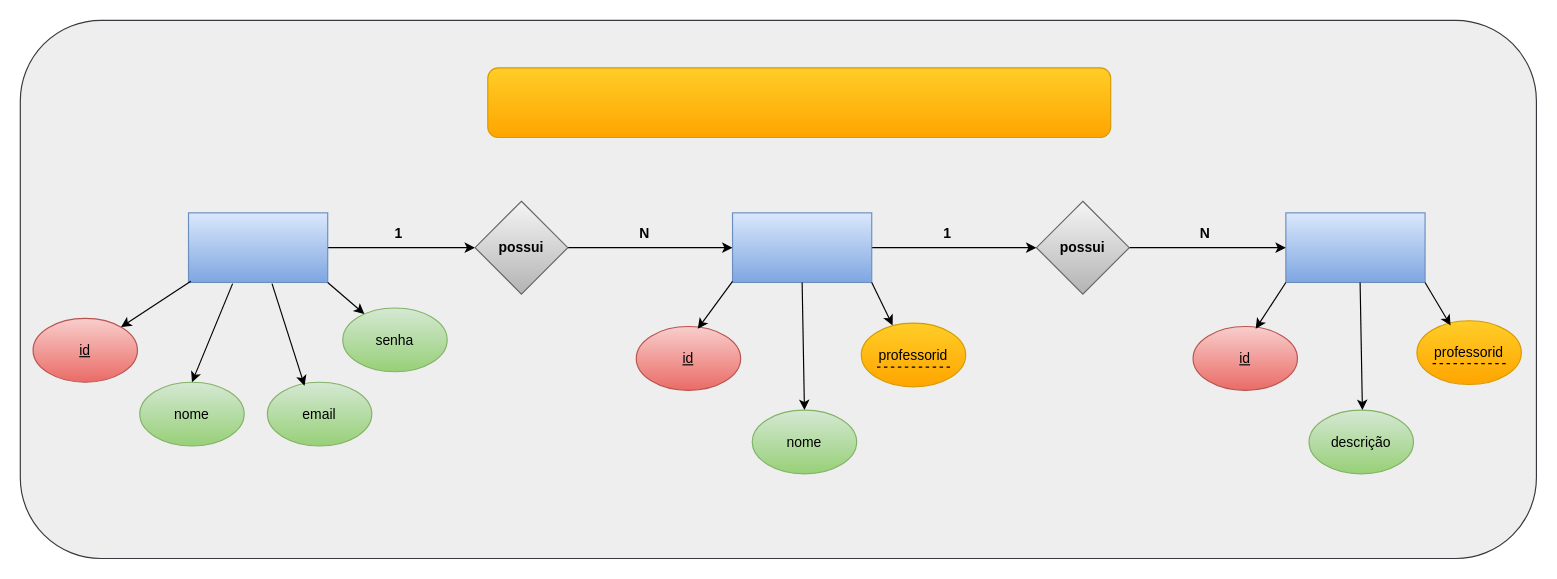
Image size: 1557x579. Some labels were removed from this diagram. Here are the shapes that lost their labels. From the top down, the centre of each, then its label:
At point 799,102: "DIAGRAMA DE ENTIDADE E RELACIONAMENTO".
At point 257,247: "Professor".
At point 801,247: "Turmas".
At point 1355,247: "Atividades".
